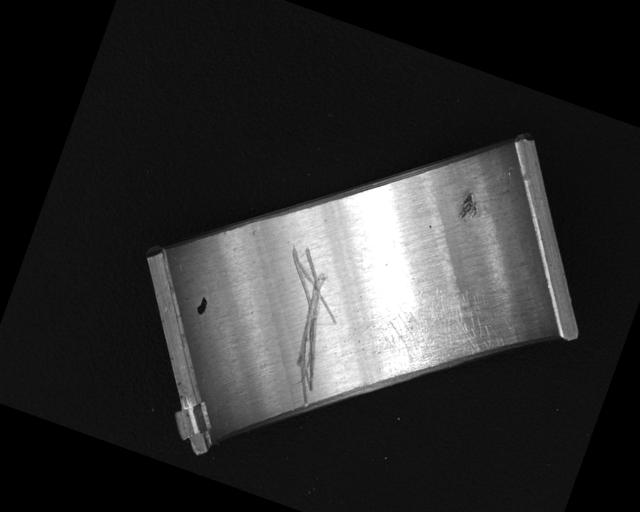blot: (193, 294, 210, 318)
bruise: (454, 190, 482, 224)
nick: (240, 242, 358, 413)
scratch: (366, 264, 526, 400)
